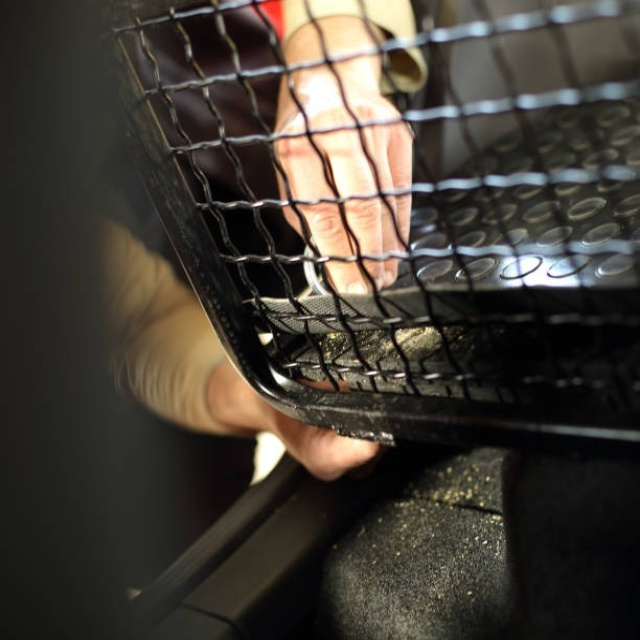Sin_guantes: (265, 12, 418, 299), (230, 370, 392, 483)
